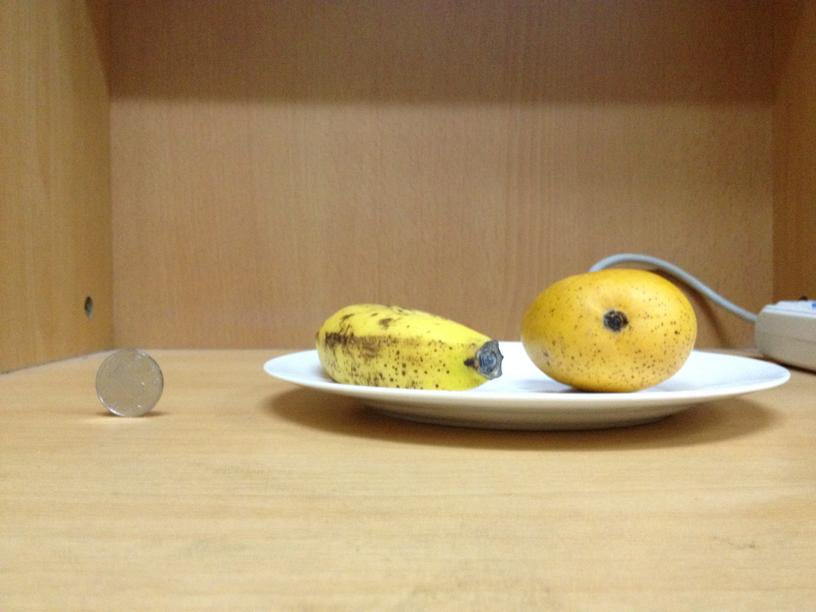banana: (322, 299, 498, 389)
coin: (96, 348, 164, 419)
mango: (526, 270, 696, 389)
